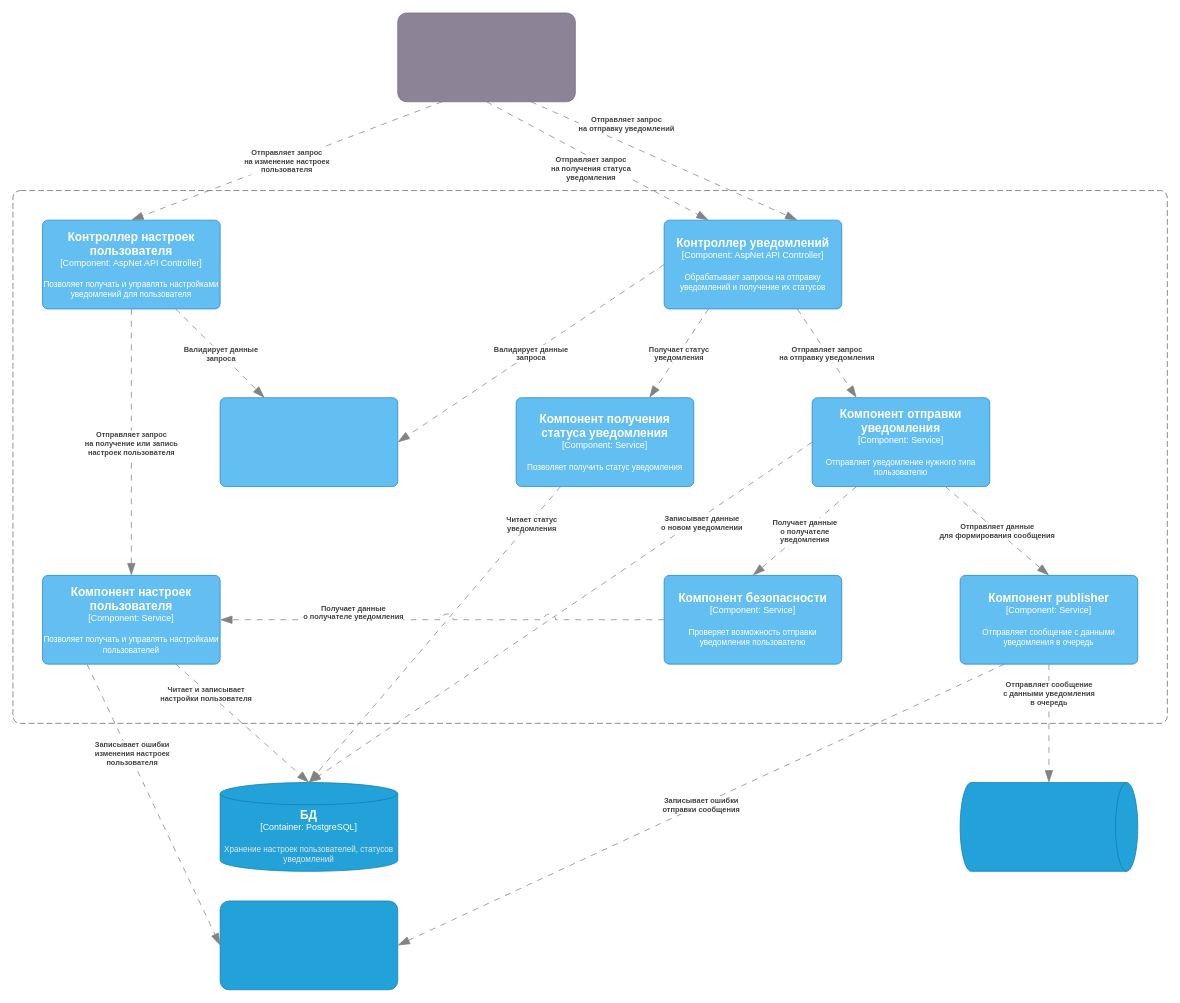
Some shapes in this 1180 by 1003 pixel diagram are drawn without their labels. The centre of each missing label's shape, as x and y in pixels:
"Компонент валидации [Component: Service] Валидация входящих запросов" goes at (308,442).
"Логи [Container: Loki and Grafana] Система хранения логов" goes at (308,945).
"Очередь [Container: RabbitMQ] Очередь с уведомлениями к отправке" goes at (1048,826).
"Подсистемы [Software System] Клиенты сервиса отправки уведомлений" goes at (486,57).
